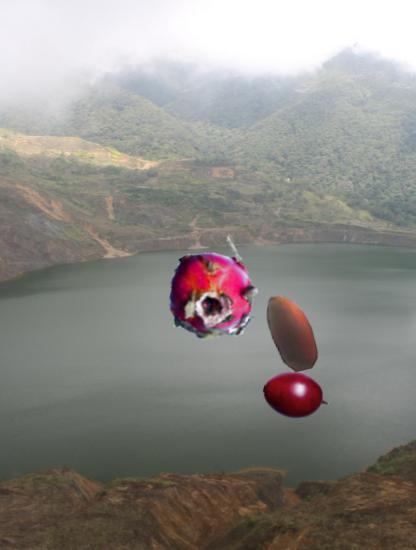Hazelnut: (251, 290, 333, 372)
Pitahaya: (162, 249, 258, 345)
Tamarillo: (263, 362, 330, 429)
